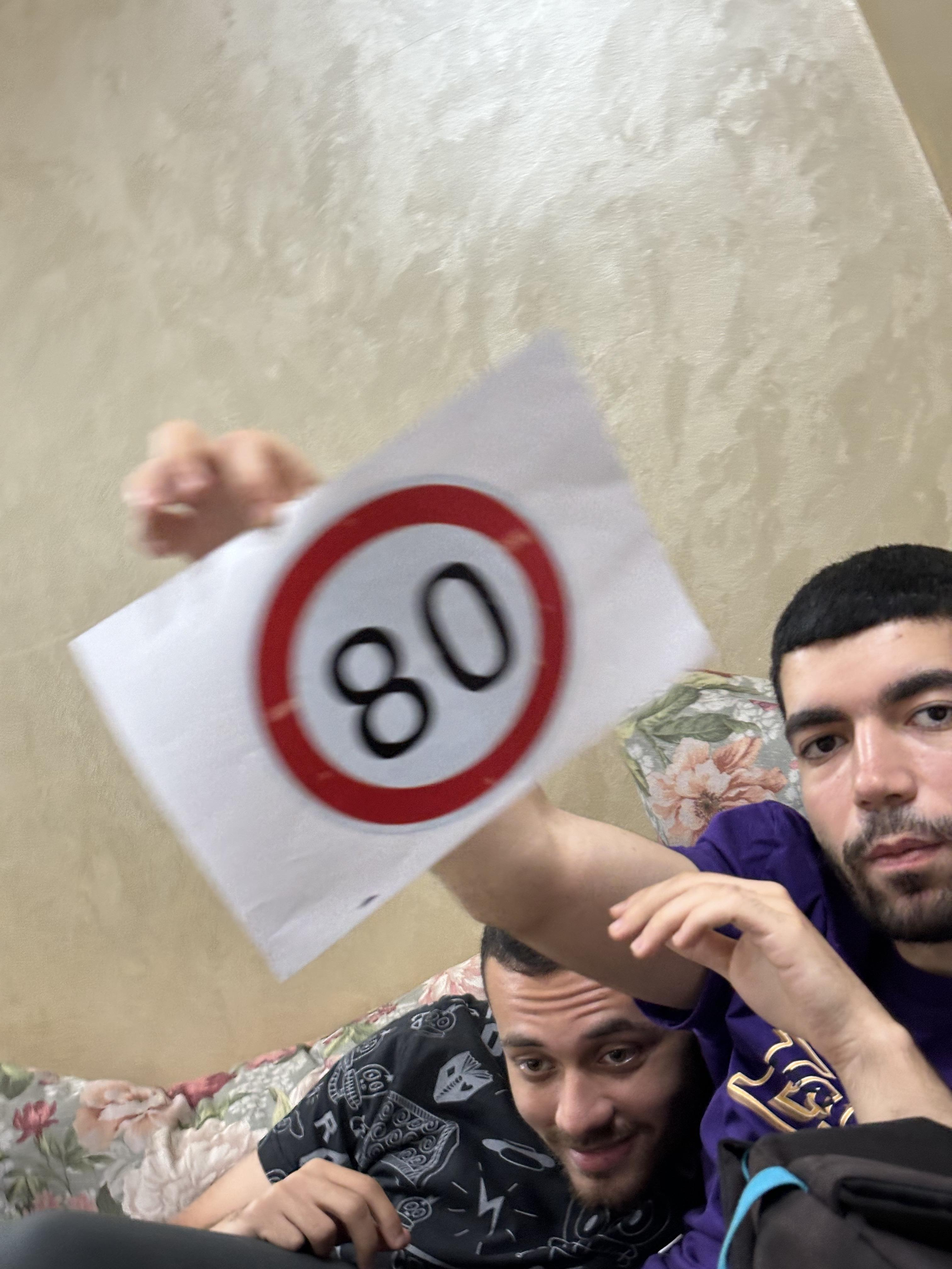80-Speed: (249, 482, 578, 830)
